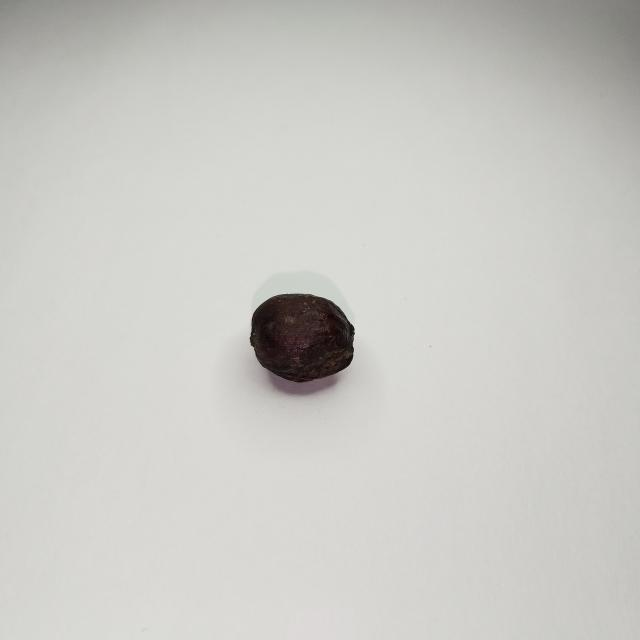Danado: (250, 294, 353, 382)
